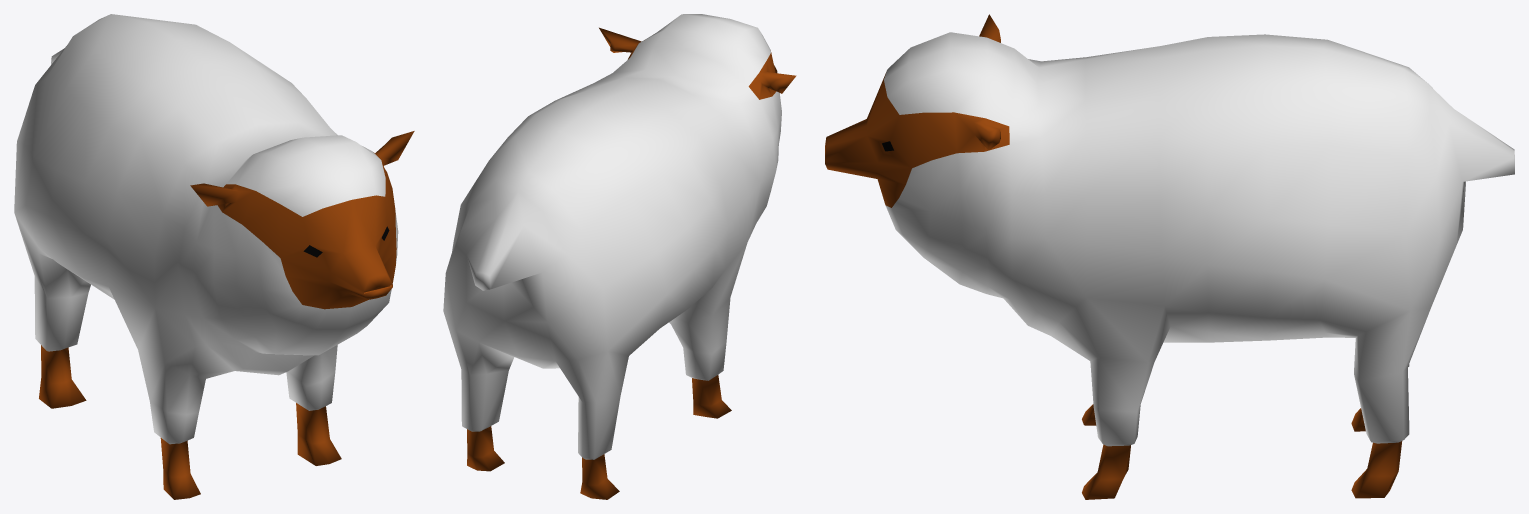
Rendered from Sheep.FBX.
The picture shows the model from 3 angles, left to right: view 1: azimuth 30°, elevation 25°; view 2: azimuth 150°, elevation 25°; view 3: azimuth 270°, elevation 25°; orthographic projection. The views are drawn at different scales.
Visible parts, largest first — view 1: sheep; view 2: sheep; view 3: sheep.
Boxes of the visible parts, x1,y1,x2,y2 form: sheep: [14, 14, 414, 499]; sheep: [443, 14, 796, 499]; sheep: [825, 14, 1514, 499].
Bounding box in the file's own units: 0.6049 × 0.8888 × 1.35.
1 material, 1 textured.
